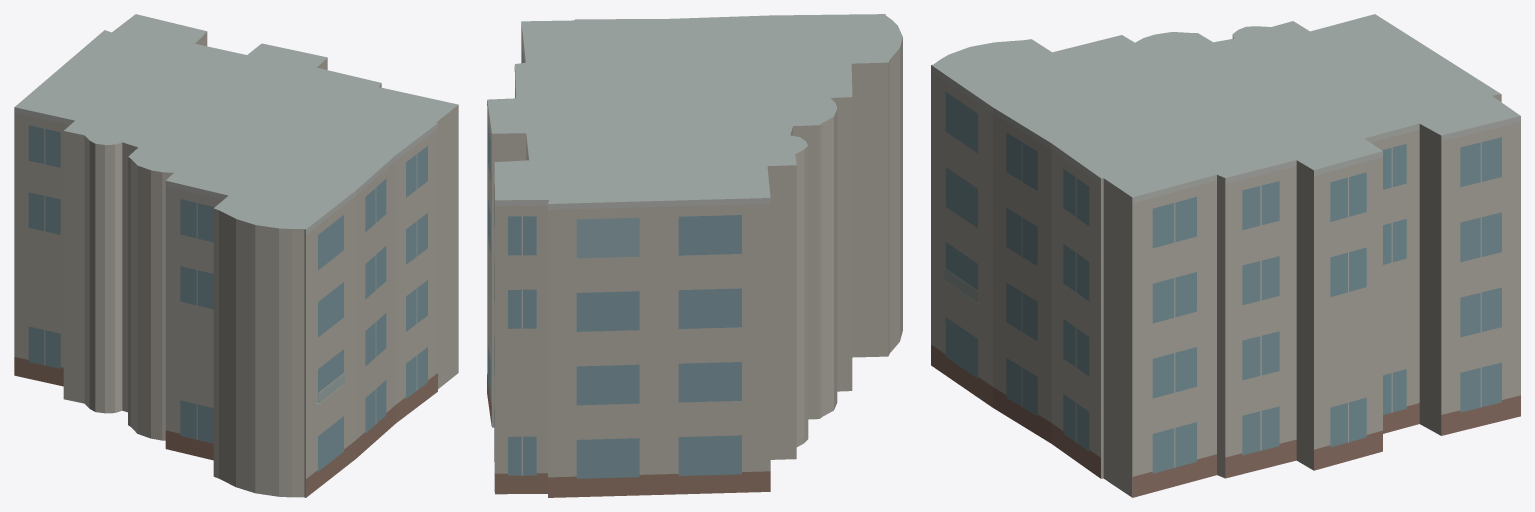
File: survey-upis-32985063.glb
3 renders of one model, left to right at view 1: azimuth 30°, elevation 25°; view 2: azimuth 150°, elevation 25°; view 3: azimuth 270°, elevation 25°, orthographic. The views are drawn at different scales.
Visible parts, largest first — view 1: survey-upis-32985063.tmp; view 2: survey-upis-32985063.tmp; view 3: survey-upis-32985063.tmp.
Boxes of the visible parts, x1=… form: survey-upis-32985063.tmp: x1=14, y1=14, x2=458, y2=497; survey-upis-32985063.tmp: x1=487, y1=14, x2=902, y2=497; survey-upis-32985063.tmp: x1=931, y1=14, x2=1520, y2=497.
Bounding box in the file's own units: 15.99 × 12.2 × 21.71.
